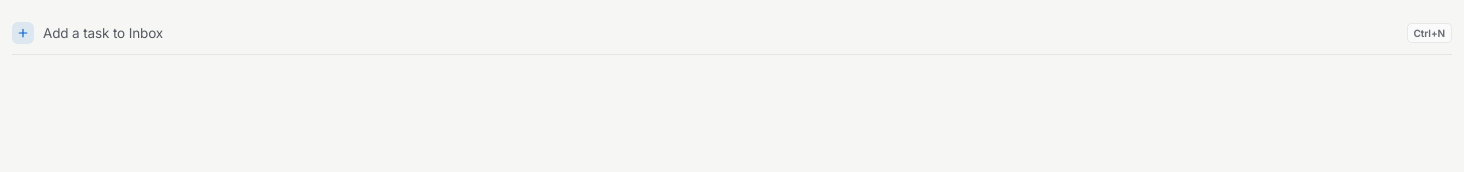
Test case: Upcoming's quick add › commits on Enter, dated the first day the Scope covers
Click the button "Add a task to Inbox Ctrl+N". click: (103, 33)
box: [12,12,1452,54]
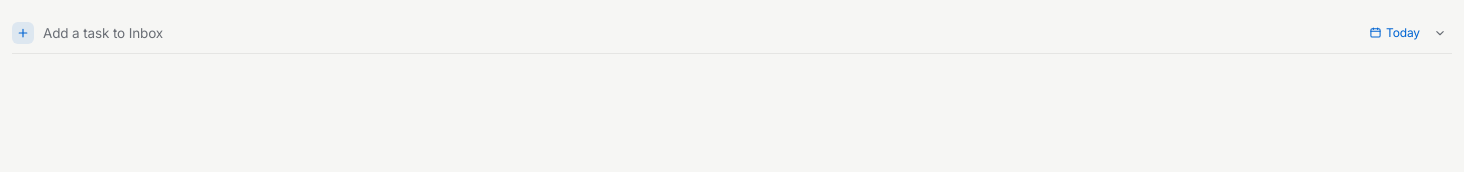
Type "Book the room" into the field labelled "Add a task to Inbox". click: (698, 32)
box: [43,24,1354,40]
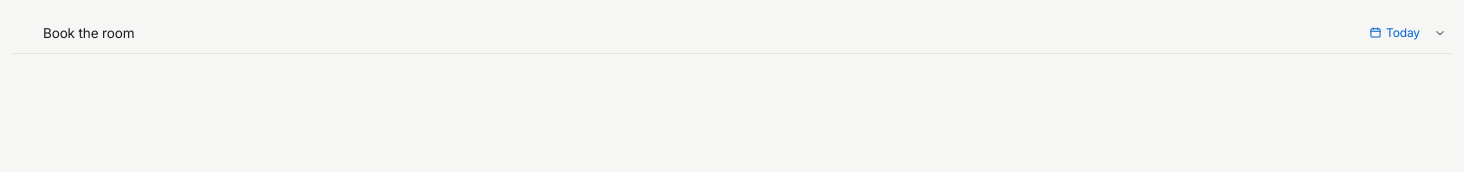
Submit the form named "Add a task", box [12,12,1452,54]
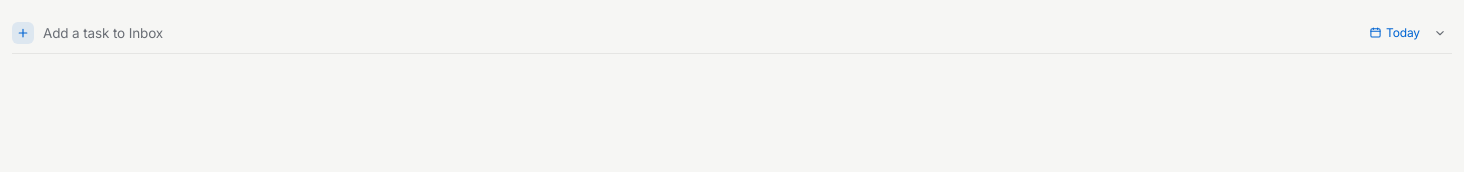
Now the field labelled "Add a task to Inbox" is empty, box [43,24,1354,40]
